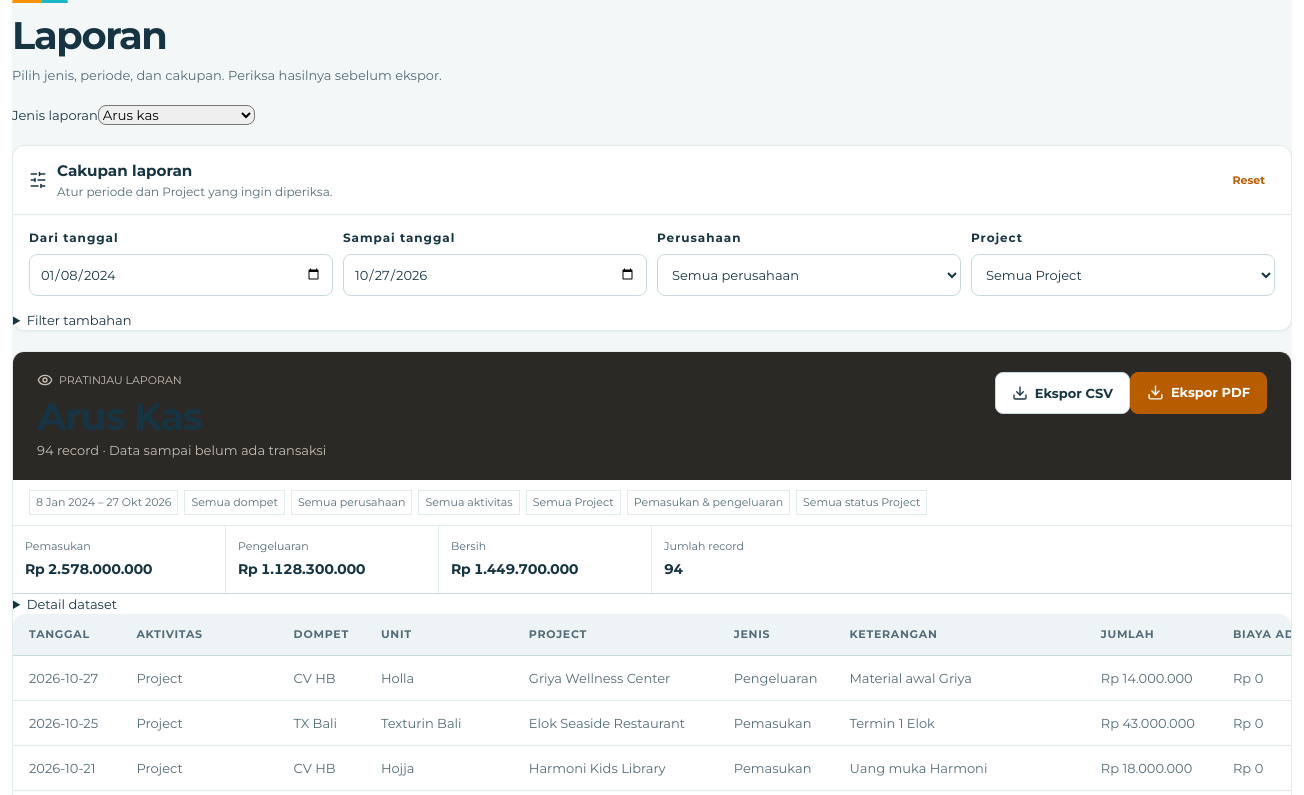
Test: clears scoped export feedback after a filter change
The width and height of the screenshot is (1304, 795).
Click the button "Ekspor CSV": [1062, 393] box x1=995 y1=372 x2=1130 y2=414
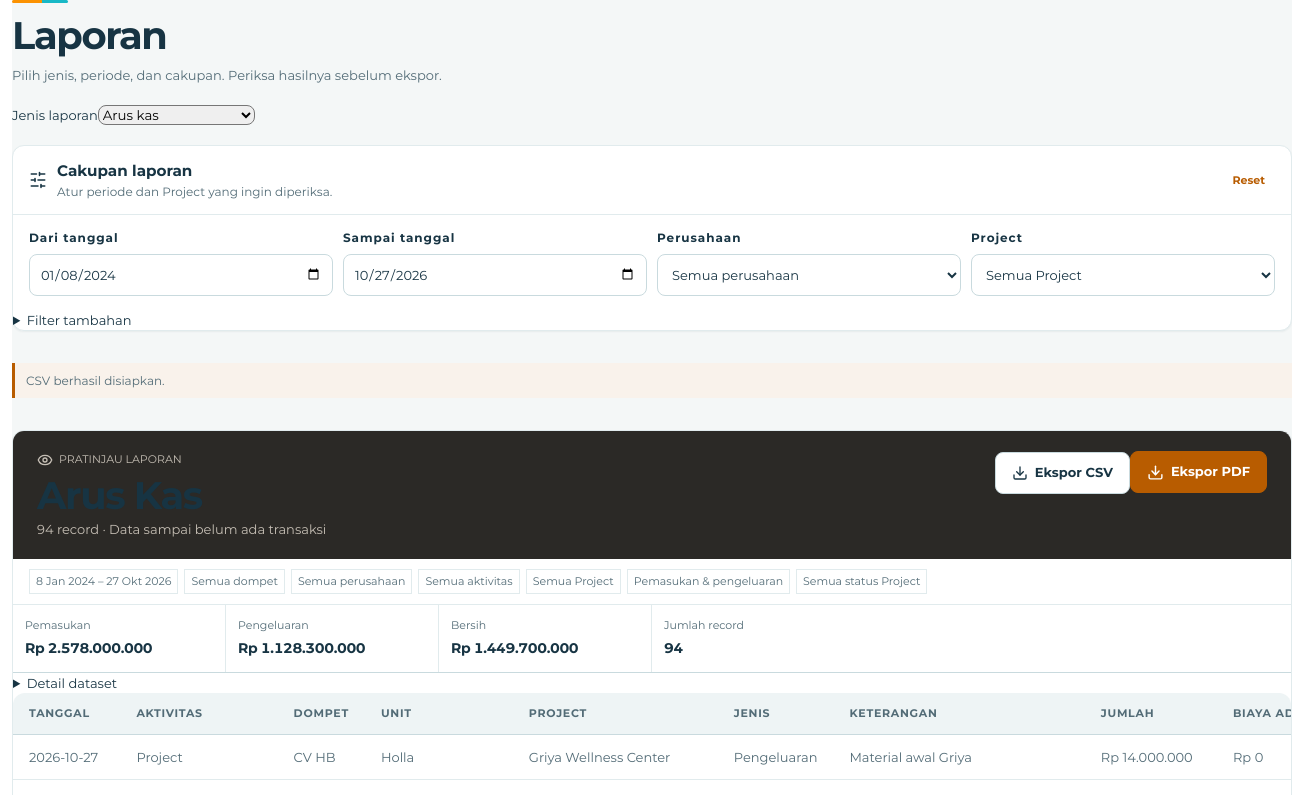
Result: the message "CSV berhasil disiapkan." is shown at x1=12 y1=363 x2=1292 y2=398
In the date field labelled "Dari tanggal": [181, 275] box x1=29 y1=254 x2=333 y2=296, type "2026-01-01"
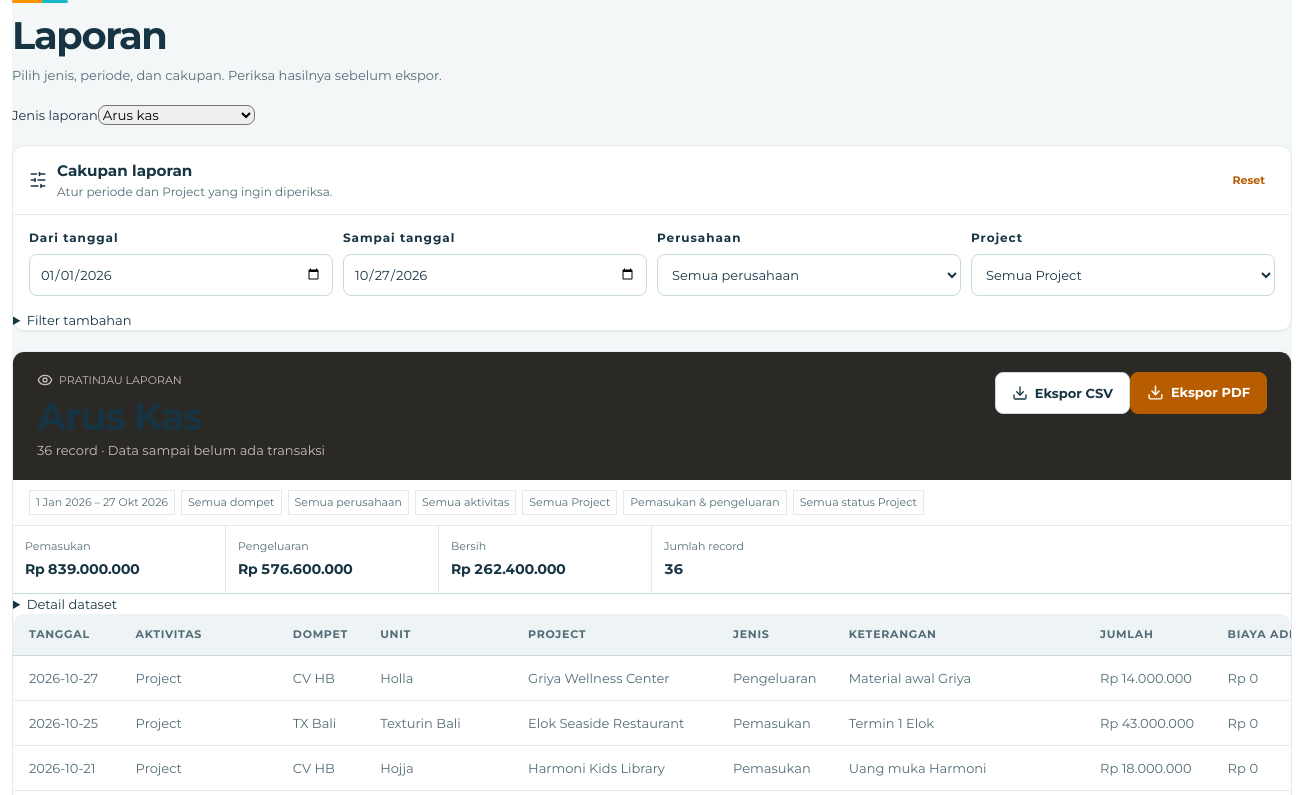
Result: the message "CSV berhasil disiapkan." is gone
